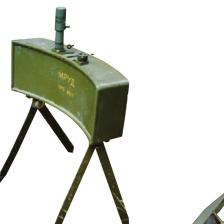MOH-50: (5, 12, 135, 199)
